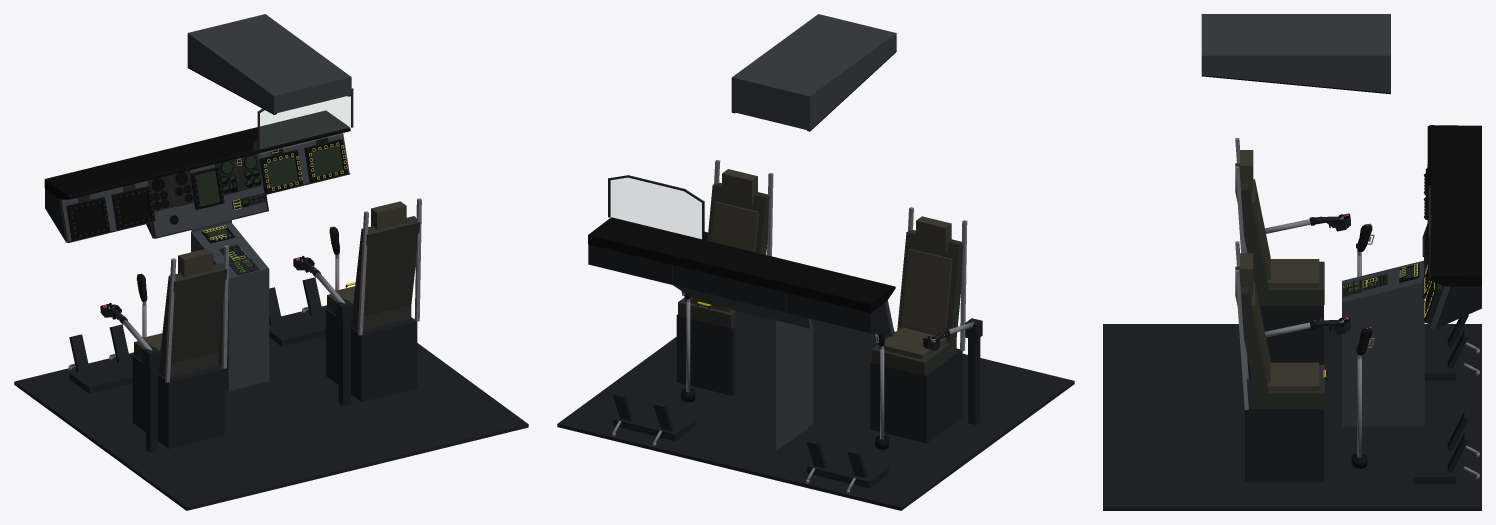
File: cockpit_ch47.glb
3 views of the same model, side by side, from view 1: azimuth 30°, elevation 25°; view 2: azimuth 150°, elevation 25°; view 3: azimuth 270°, elevation 25° (orthographic). The views are drawn at different scales.
Parts seen in each view (by area): view 1: dark.265, panel_grey.004, black, panel_grey.002, dark.272, dark.273, seat_95, seat_95.001, hud_glass_69, panel_grey, panel_grey.001, dark.269 (+16 smaller); view 2: dark.265, panel_grey.004, panel_grey.002, black, dark.273, hud_glass_69, dark.272, dark.007, cushion_96.001, dark.006, seat_95.001, cushion_96 (+12 smaller); view 3: dark.265, panel_grey.004, panel_grey.002, black, dark.272, dark.273, dark.266, seat_95, cushion_94, cushion_94.001, seat_95.001, seat_93.001 (+9 smaller).
Boxes of the visible parts, x1=… form: dark.265: x1=14, y1=305, x2=528, y2=510; panel_grey.004: x1=187, y1=14, x2=351, y2=113; black: x1=44, y1=110, x2=350, y2=199; panel_grey.002: x1=191, y1=223, x2=269, y2=391; dark.272: x1=325, y1=308, x2=417, y2=401; dark.273: x1=132, y1=355, x2=224, y2=448; seat_95: x1=353, y1=216, x2=420, y2=320; seat_95.001: x1=160, y1=263, x2=227, y2=364; hud_glass_69: x1=260, y1=96, x2=350, y2=153; panel_grey: x1=59, y1=133, x2=349, y2=242; panel_grey.001: x1=150, y1=202, x2=267, y2=238; dark.269: x1=69, y1=358, x2=132, y2=393; dark.265: x1=557, y1=319, x2=1074, y2=510; panel_grey.004: x1=731, y1=14, x2=896, y2=130; panel_grey.002: x1=735, y1=310, x2=813, y2=451; black: x1=588, y1=217, x2=895, y2=313; dark.273: x1=870, y1=348, x2=962, y2=443; hud_glass_69: x1=610, y1=178, x2=701, y2=238; dark.272: x1=676, y1=314, x2=735, y2=395; dark.007: x1=672, y1=265, x2=809, y2=328; cushion_96.001: x1=901, y1=249, x2=952, y2=334; dark.006: x1=786, y1=293, x2=891, y2=336; seat_95.001: x1=897, y1=230, x2=962, y2=343; cushion_96: x1=711, y1=201, x2=758, y2=252; dark.265: x1=1103, y1=324, x2=1481, y2=510; panel_grey.004: x1=1201, y1=14, x2=1390, y2=93; panel_grey.002: x1=1342, y1=260, x2=1424, y2=426; black: x1=1427, y1=125, x2=1481, y2=286; dark.272: x1=1245, y1=379, x2=1323, y2=482; dark.273: x1=1259, y1=304, x2=1323, y2=364; dark.266: x1=1413, y1=443, x2=1456, y2=483; seat_95: x1=1235, y1=266, x2=1268, y2=396; cushion_94: x1=1267, y1=362, x2=1319, y2=391; cushion_94.001: x1=1267, y1=259, x2=1319, y2=287; seat_95.001: x1=1235, y1=163, x2=1268, y2=292; seat_93.001: x1=1256, y1=261, x2=1324, y2=304.
Bounding box in the file's own units: 2.2 × 2.15 × 1.92.
Materials: 29 (6 with a texture image).
